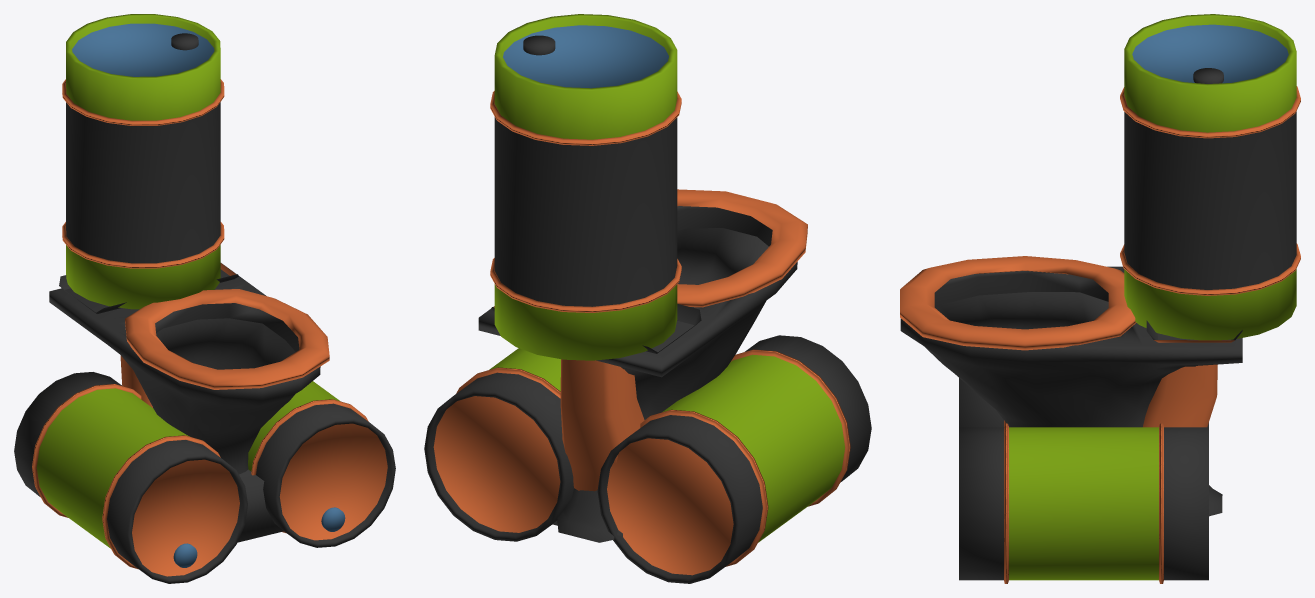
File: toilet_05.glb
3 views of the same model, side by side, from view 1: azimuth 30°, elevation 25°; view 2: azimuth 150°, elevation 25°; view 3: azimuth 270°, elevation 25° (orthographic). The views are drawn at different scales.
Parts seen in each view (by area): view 1: toilet_05; view 2: toilet_05; view 3: toilet_05.
Part boxes in pixels (box(x1,y1,x2,y2)): toilet_05: box(14, 14, 395, 583); toilet_05: box(424, 14, 871, 583); toilet_05: box(900, 14, 1300, 583).
Bounding box in the file's own units: 0.8618 × 1.32 × 0.987.
